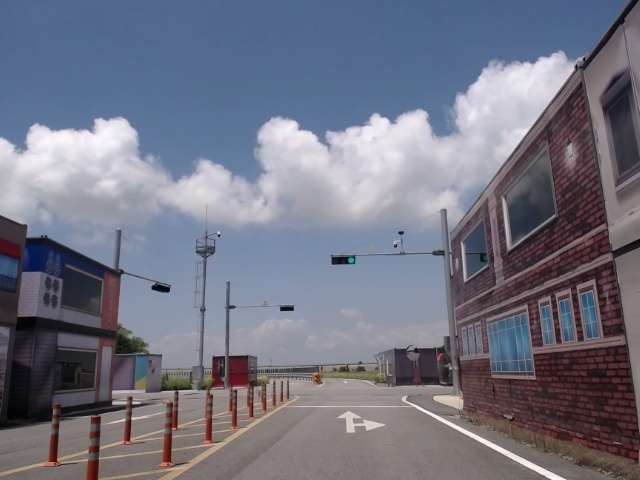green_3: (332, 256, 354, 263)
